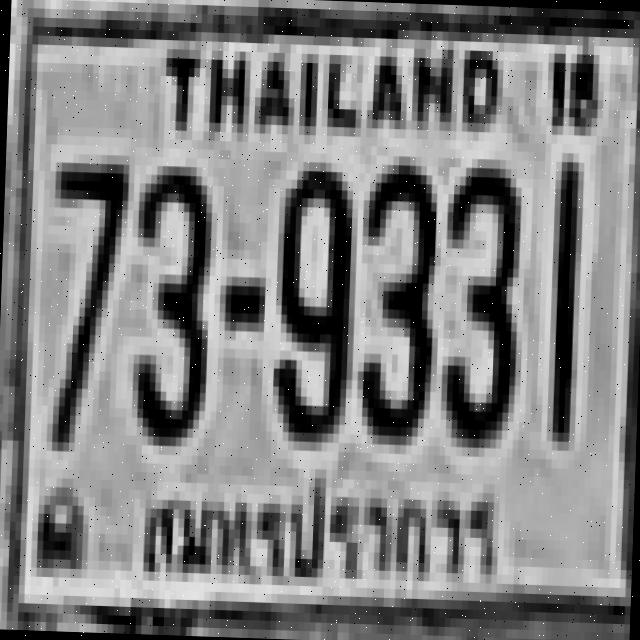1: (544, 157, 582, 437)
3: (352, 154, 436, 436), (436, 158, 520, 440), (125, 156, 208, 438)
7: (40, 152, 124, 444)
9: (268, 152, 352, 434)
SamutPrakan: (128, 460, 501, 594)
